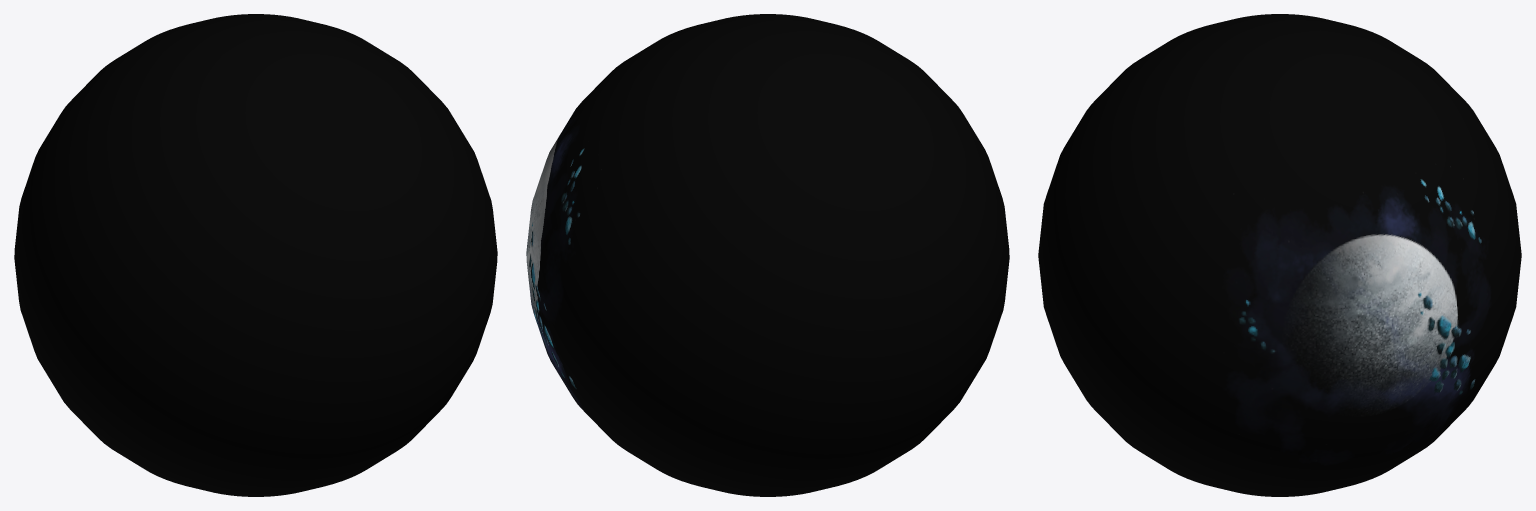
Rendered from SkySphere.fbx.
The picture shows the model from 3 angles, left to right: view 1: azimuth 30°, elevation 25°; view 2: azimuth 150°, elevation 25°; view 3: azimuth 270°, elevation 25°; orthographic projection.
Parts seen in each view (by area): view 1: Sphere; view 2: Sphere; view 3: Sphere.
Part boxes in pixels (<box>): Sphere: <box>14,14,497,496</box>; Sphere: <box>526,14,1009,496</box>; Sphere: <box>1038,14,1521,496</box>.
Size of the model in its own units: 200 by 200 by 200.
